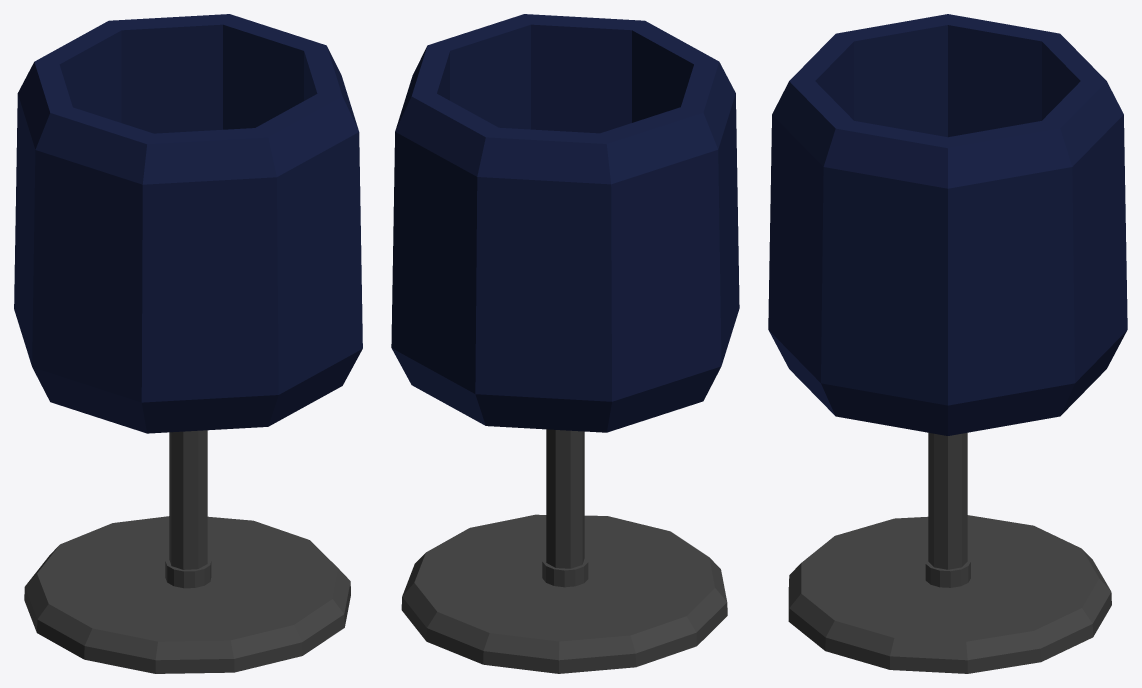
File: hh_desk_lamp.glb
The picture shows the model from 3 angles, left to right: view 1: azimuth 30°, elevation 25°; view 2: azimuth 150°, elevation 25°; view 3: azimuth 270°, elevation 25°; orthographic projection.
Visible parts, largest first — view 1: Lamp_C; view 2: Lamp_C; view 3: Lamp_C.
Boxes of the visible parts, bbox=[...] form: Lamp_C: bbox=[14, 14, 362, 673]; Lamp_C: bbox=[391, 14, 739, 673]; Lamp_C: bbox=[768, 14, 1127, 673].
Bounding box in the file's own units: 0.3206 × 0.5157 × 0.3206.
